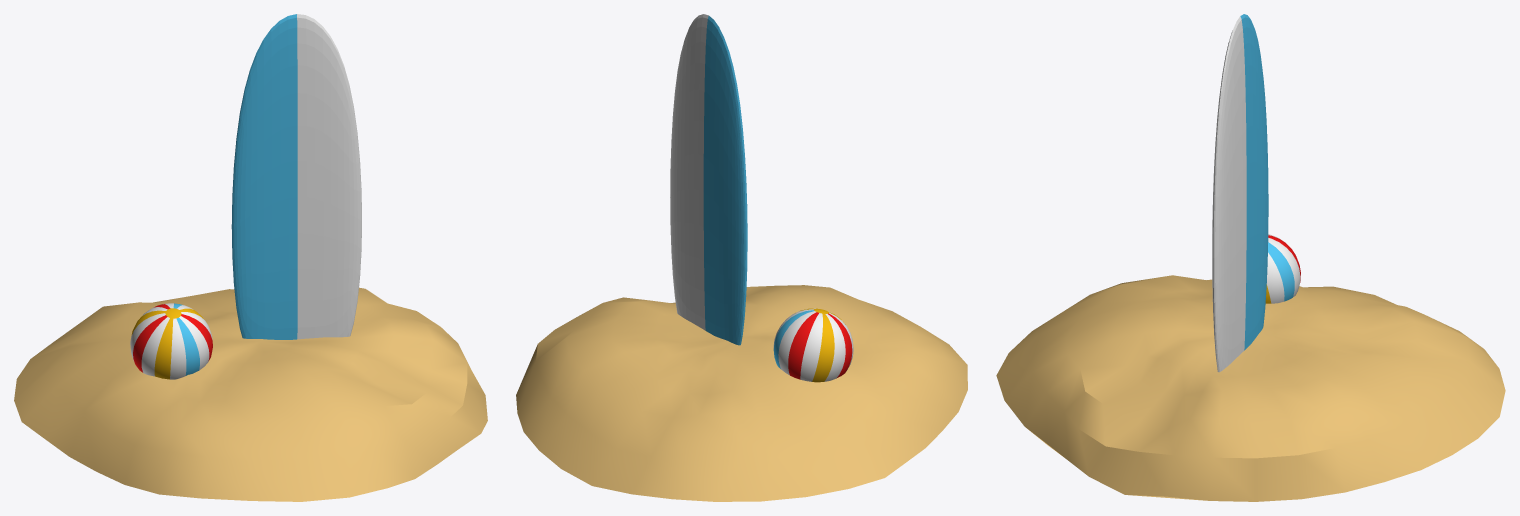
File: outElement2.glb
The picture shows the model from 3 angles, left to right: view 1: azimuth 30°, elevation 25°; view 2: azimuth 150°, elevation 25°; view 3: azimuth 270°, elevation 25°; orthographic projection. The views are drawn at different scales.
Visible parts, largest first — view 1: Sphere, Plane, Sphere.001; view 2: Sphere, Plane, Sphere.001; view 3: Sphere, Plane, Sphere.001.
Boxes of the visible parts, x1,y1,x2,y2 form: Sphere: [14, 287, 487, 501]; Plane: [231, 14, 361, 339]; Sphere.001: [130, 303, 212, 379]; Sphere: [516, 285, 967, 501]; Plane: [670, 14, 747, 345]; Sphere.001: [773, 308, 853, 382]; Sphere: [996, 275, 1505, 501]; Plane: [1212, 14, 1268, 372]; Sphere.001: [1265, 234, 1300, 303].
Size of the model in its own units: 6.51 by 6.29 by 7.06.
